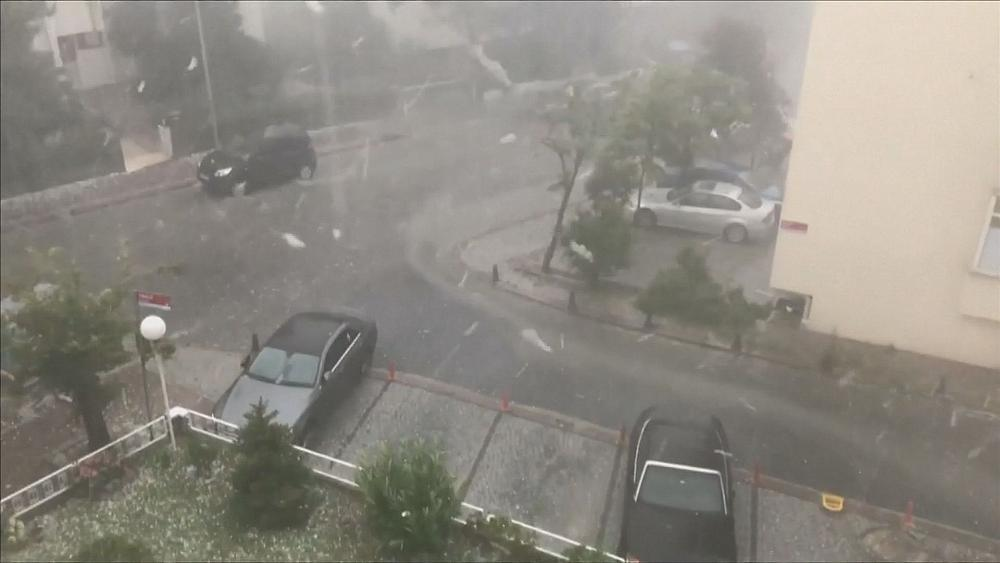car: (203, 308, 381, 459), (616, 402, 745, 563), (613, 175, 776, 247), (195, 118, 317, 198), (654, 160, 762, 210)
